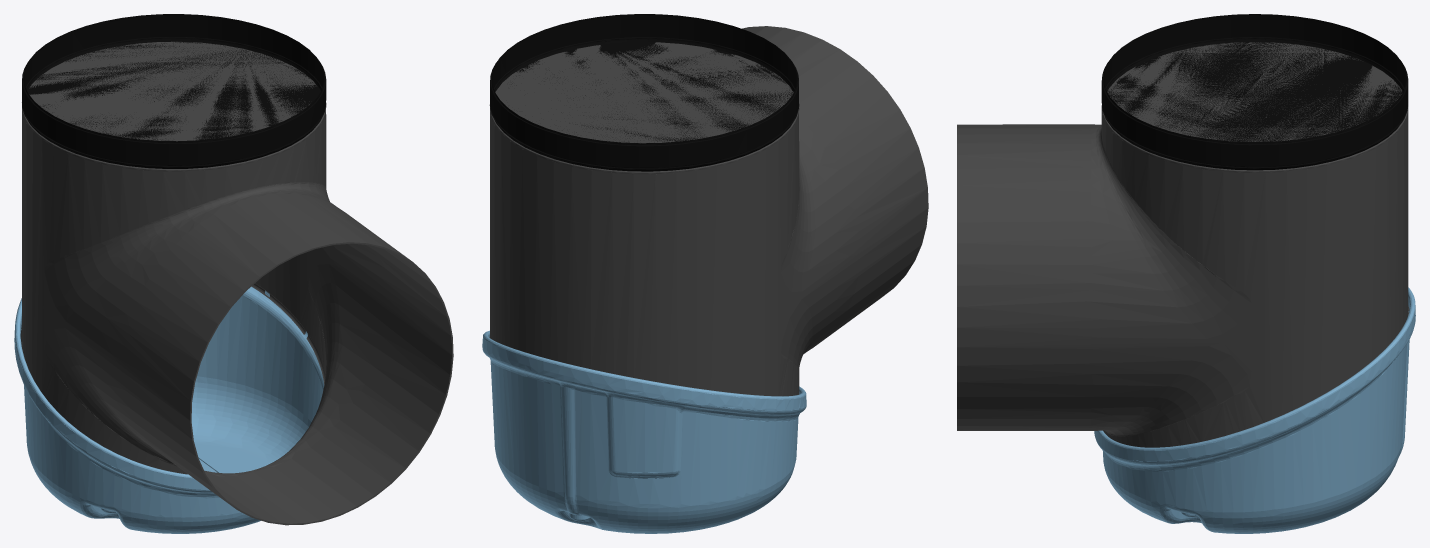
Rendered from wrist1.obj.
3 renders of one model, left to right at view 1: azimuth 30°, elevation 25°; view 2: azimuth 150°, elevation 25°; view 3: azimuth 270°, elevation 25°, orthographic.
Parts seen in each view (by area): view 1: eSeries_UR5e_043, eSeries_UR5e_026, eSeries_UR5e_027; view 2: eSeries_UR5e_043, eSeries_UR5e_026, eSeries_UR5e_027; view 3: eSeries_UR5e_043, eSeries_UR5e_027, eSeries_UR5e_026.
Part boxes in pixels (x1,y1,x2,y2): eSeries_UR5e_043: (20,41,453,525); eSeries_UR5e_026: (14,286,324,533); eSeries_UR5e_027: (22,14,326,168); eSeries_UR5e_043: (489,26,928,396); eSeries_UR5e_026: (482,330,806,533); eSeries_UR5e_027: (489,14,799,171); eSeries_UR5e_043: (957,42,1409,447); eSeries_UR5e_027: (1101,14,1408,170); eSeries_UR5e_026: (1094,287,1415,533).
Size of the model in its own units: 0.0787 by 0.1099 by 0.1122.
